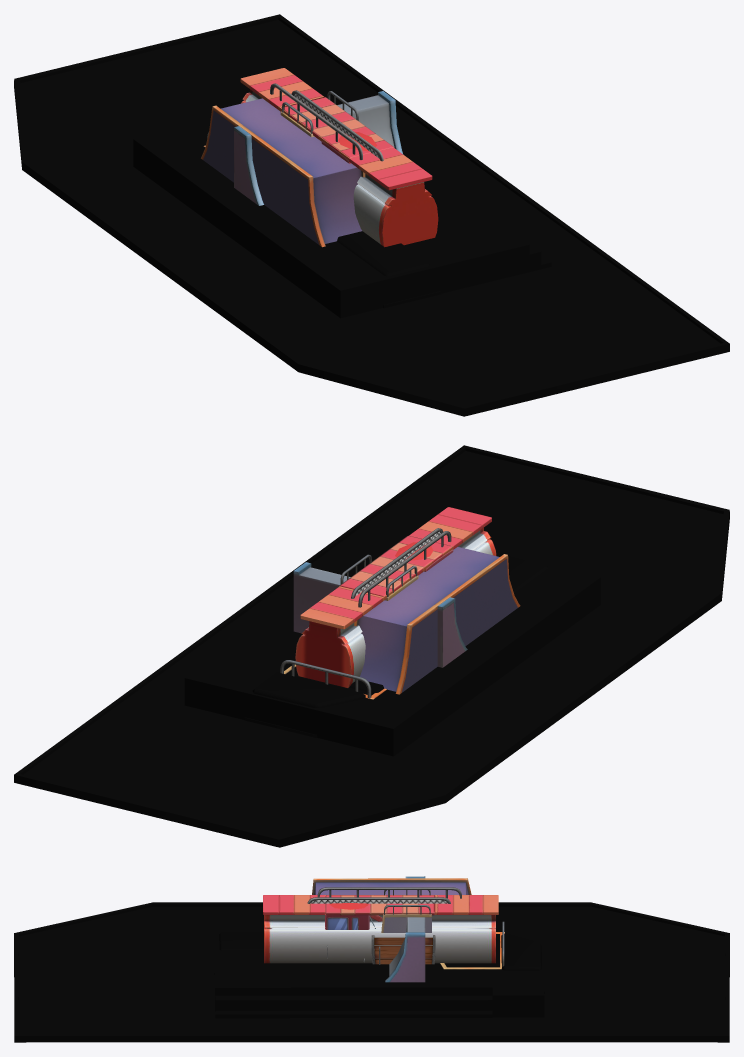
File: all playground assets.fbx
3 renders of one model, top to bottom at view 1: azimuth 30°, elevation 25°; view 2: azimuth 150°, elevation 25°; view 3: azimuth 270°, elevation 25°, orthographic. The views are drawn at different scales.
Visible parts, largest first — view 1: park_platform_v2, park_platform, skating_range, Truck1_wagon, skating_range_3, garden_bush, Truck2_wagon, fence_barrier_2; view 2: park_platform_v2, park_platform, skating_range, Truck1_wagon, garden_bush, skating_range_3, Truck2_wagon, fence_barrier_2; view 3: park_platform_v2, park_platform, Truck1_wagon, skating_range, garden_bush, Car_3, skating_range_3, Truck2_wagon, fence_barrier_2, skating_range_2.
Part boxes in pixels (x1,y1,x2,y2): park_platform_v2: [14, 14, 729, 416]; park_platform: [133, 88, 551, 318]; skating_range: [201, 83, 365, 247]; Truck1_wagon: [240, 68, 438, 247]; skating_range_3: [234, 91, 403, 205]; garden_bush: [337, 231, 441, 308]; Truck2_wagon: [281, 97, 393, 157]; fence_barrier_2: [291, 90, 383, 161]; park_platform_v2: [14, 445, 729, 847]; park_platform: [184, 531, 600, 756]; skating_range: [280, 531, 520, 699]; Truck1_wagon: [295, 507, 496, 687]; garden_bush: [244, 556, 547, 737]; skating_range_3: [293, 562, 467, 667]; Truck2_wagon: [340, 535, 451, 596]; fence_barrier_2: [351, 528, 443, 598]; park_platform_v2: [14, 902, 729, 1042]; park_platform: [215, 914, 544, 1018]; Truck1_wagon: [263, 895, 498, 963]; skating_range: [312, 878, 504, 969]; garden_bush: [214, 932, 544, 993]; Car_3: [325, 903, 435, 964]; skating_range_3: [385, 876, 425, 982]; Truck2_wagon: [325, 895, 435, 928]; fence_barrier_2: [307, 897, 450, 903]; skating_range_2: [381, 890, 431, 932].
Bounding box in the file's own units: 1106 × 349 × 2504.
